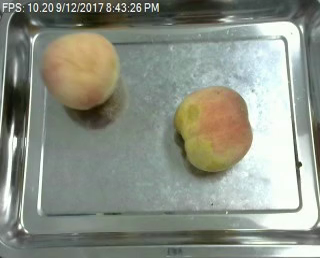Peach: (174, 85, 252, 171), (40, 31, 120, 111)
